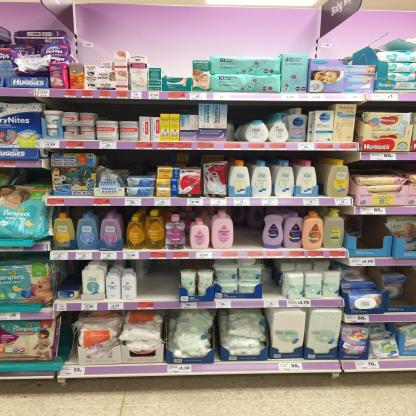empty_space: (143, 277, 177, 302)
